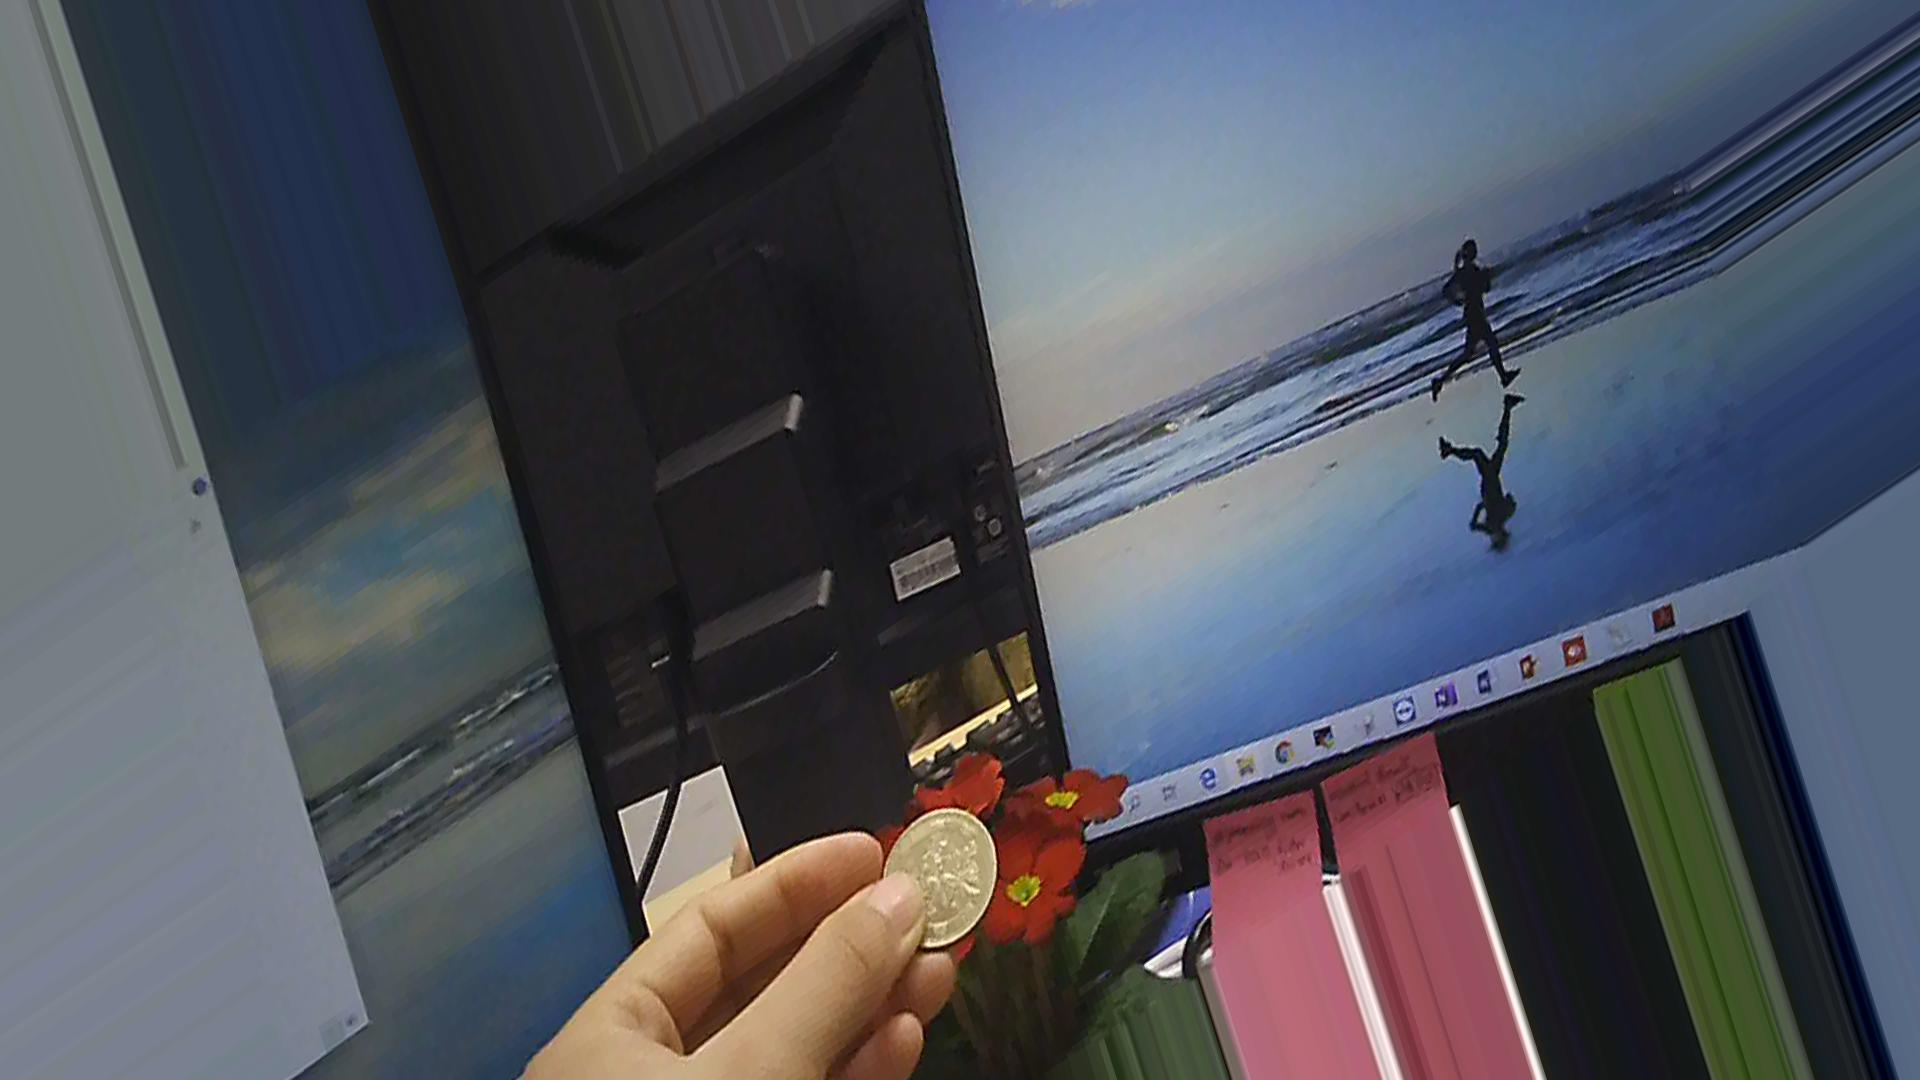500 Yen: (878, 811, 998, 953)
